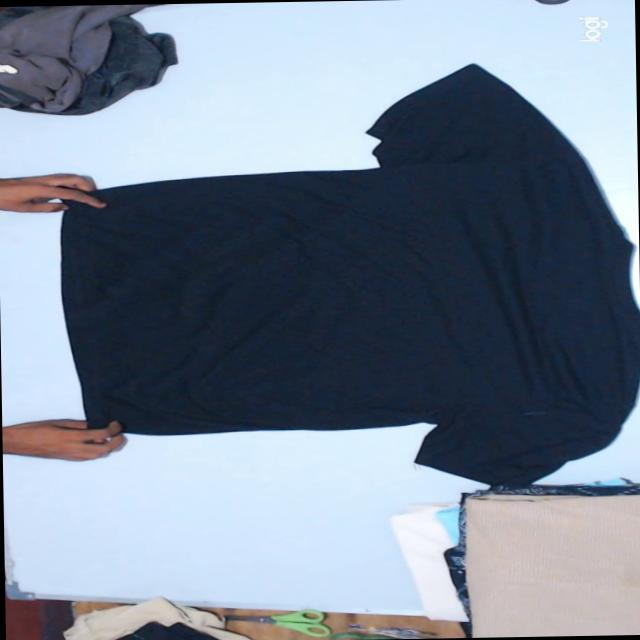new-garment: (61, 63, 640, 483)
